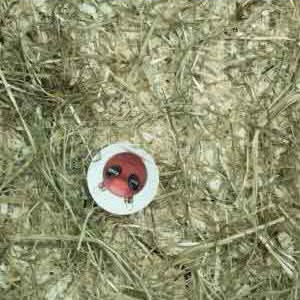badge: (87, 142, 161, 216)
